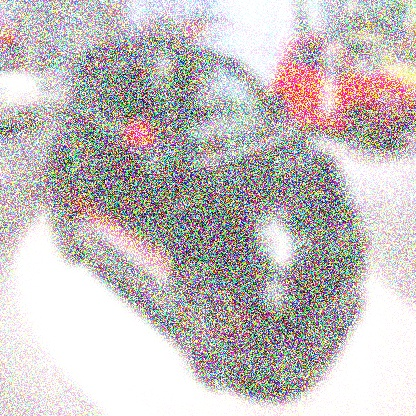Vehicle: (48, 36, 370, 404)
